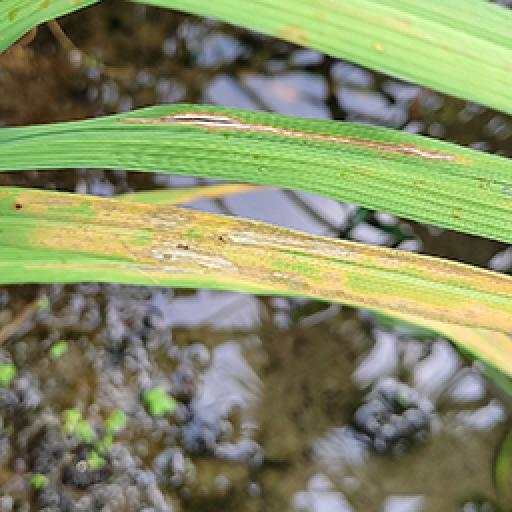Sheath Blight: (0, 192, 512, 386), (112, 88, 472, 170)
